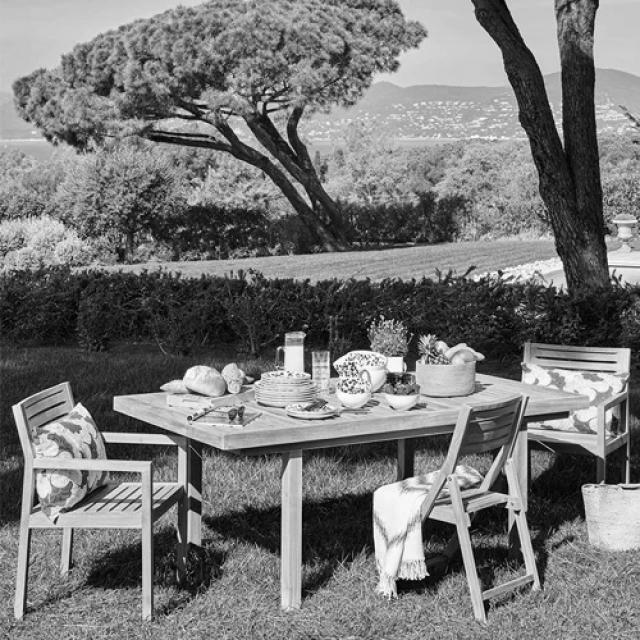table: (101, 358, 600, 479)
